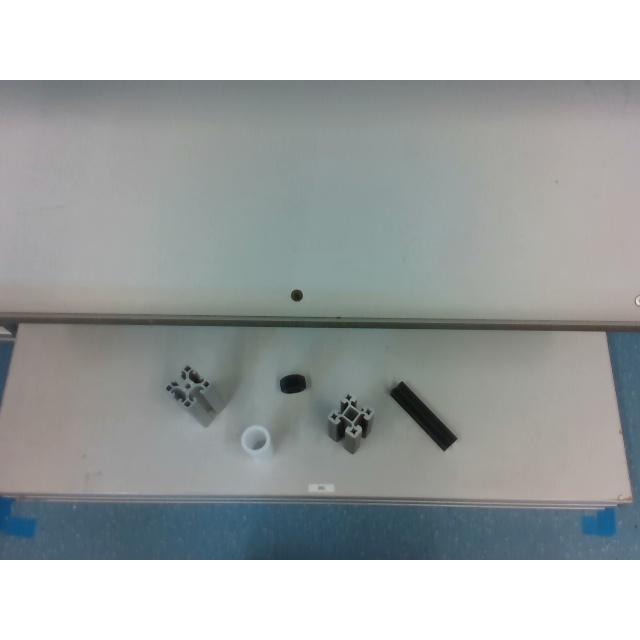F20_20_B: (389, 380, 457, 450)
M20: (279, 373, 307, 393)
S40_40_B: (328, 393, 374, 453)
S40_40_G: (165, 366, 227, 426)
Spacer: (241, 425, 271, 461)
